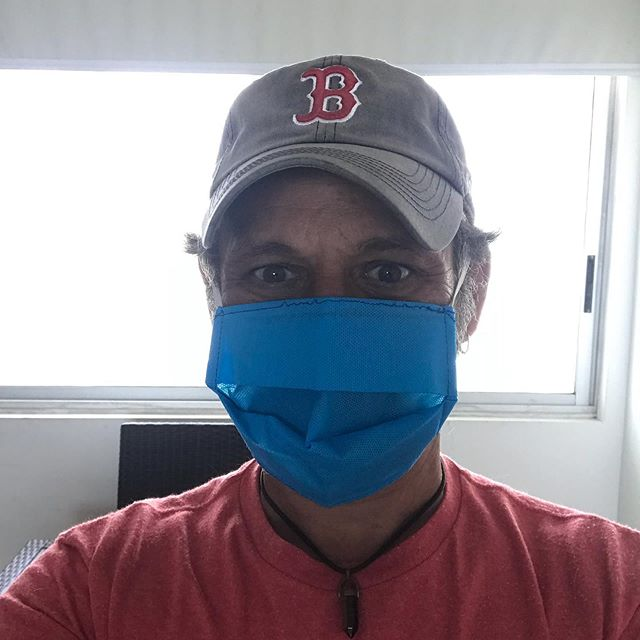homemade: (201, 295, 464, 497)
